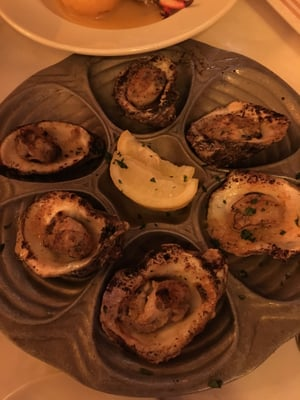sushi: (99, 242, 226, 365), (109, 129, 200, 211), (110, 54, 184, 134), (0, 121, 92, 176)
